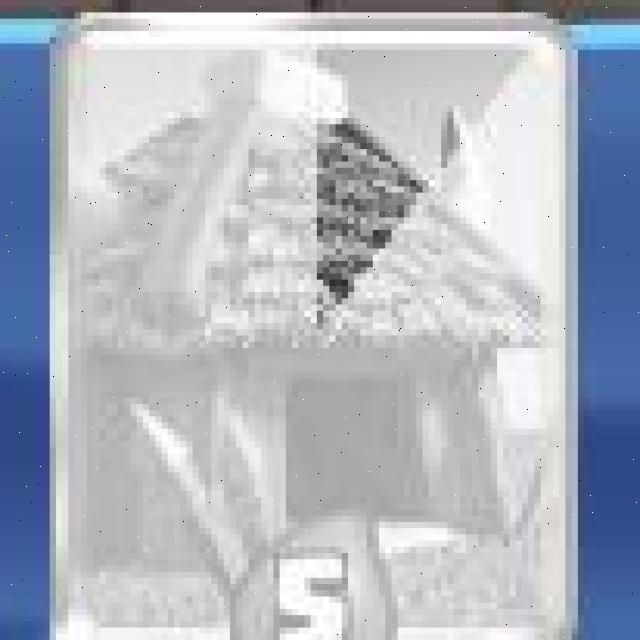Goblin_Hut: (51, 13, 580, 640)
